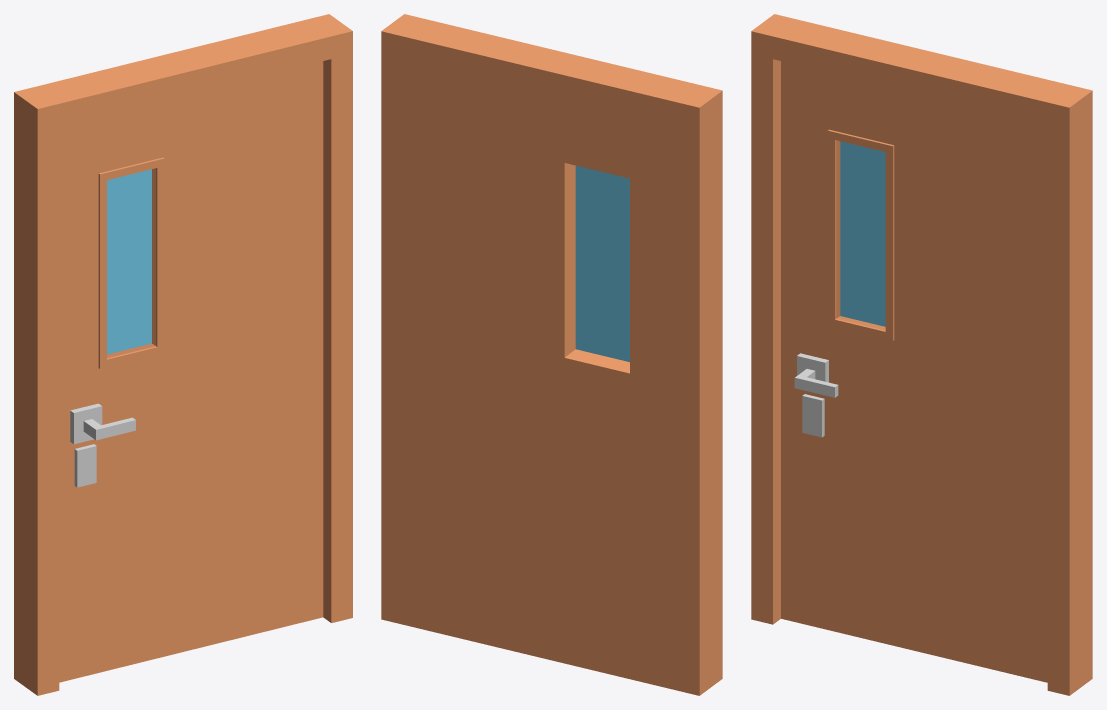
File: Door 1.fbx
3 views of the same model, side by side, from view 1: azimuth 30°, elevation 25°; view 2: azimuth 150°, elevation 25°; view 3: azimuth 330°, elevation 25° (orthographic).
Visible parts, largest first — view 1: Cube.055; view 2: Cube.055; view 3: Cube.055.
Part boxes in pixels (<box>): Cube.055: <box>14,14,352,695</box>; Cube.055: <box>381,14,722,695</box>; Cube.055: <box>751,14,1092,695</box>.
Bounding box in the file's own units: 155 × 275 × 27.2.
